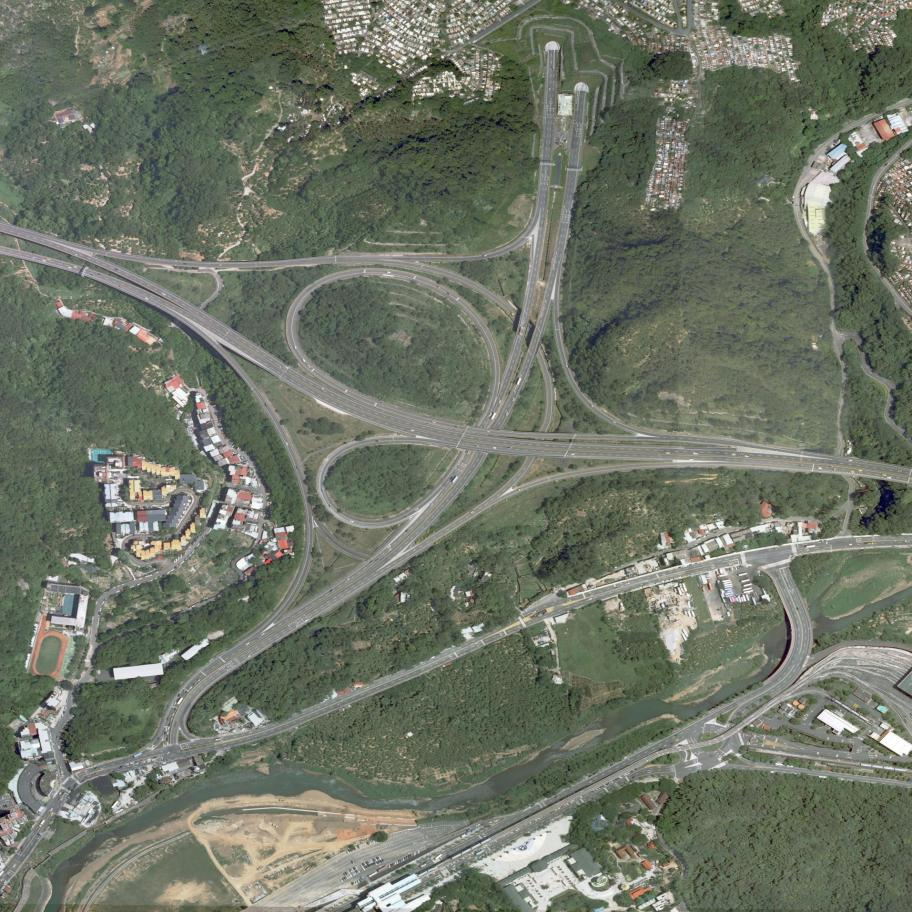large-vehicle: (452, 476, 460, 484), (434, 853, 443, 860), (518, 326, 524, 336), (39, 820, 46, 828), (177, 697, 184, 705), (378, 866, 387, 872), (368, 871, 377, 877), (742, 582, 752, 587), (740, 578, 750, 583), (476, 850, 484, 856), (752, 597, 758, 605), (491, 412, 497, 420), (133, 753, 142, 758), (738, 572, 747, 577), (724, 582, 733, 587), (742, 587, 753, 591), (744, 590, 754, 594), (805, 544, 815, 548), (742, 594, 747, 602), (722, 579, 731, 583), (726, 594, 735, 598), (725, 592, 734, 596), (723, 581, 732, 585), (745, 594, 750, 601), (517, 378, 522, 385), (740, 596, 745, 602), (738, 595, 742, 602), (420, 864, 426, 868), (725, 585, 733, 588)
small-vehicle: (84, 774, 90, 779), (510, 311, 515, 317), (350, 867, 355, 872), (49, 813, 54, 818), (196, 542, 201, 547), (375, 557, 380, 562), (386, 544, 391, 549), (414, 507, 419, 512), (225, 438, 230, 443), (238, 447, 243, 452), (265, 503, 270, 508), (93, 766, 99, 770), (114, 268, 120, 272), (132, 276, 138, 280), (41, 259, 47, 263), (101, 600, 105, 606), (219, 427, 225, 431), (173, 701, 177, 706), (177, 693, 181, 698), (197, 678, 201, 683), (95, 771, 100, 775), (351, 871, 355, 876), (346, 870, 351, 874), (354, 866, 358, 871), (353, 846, 357, 851), (410, 429, 415, 433), (264, 403, 268, 408), (277, 365, 282, 369), (284, 366, 289, 370), (224, 331, 229, 335), (73, 253, 78, 257), (144, 297, 149, 301), (119, 285, 124, 289), (72, 265, 77, 269), (285, 441, 289, 446), (138, 577, 143, 581), (148, 574, 153, 578), (155, 570, 160, 574), (345, 578, 350, 582), (369, 560, 374, 564), (388, 548, 392, 553), (328, 504, 332, 509), (320, 487, 324, 492), (360, 864, 365, 868), (364, 862, 368, 867), (378, 856, 382, 861), (340, 878, 344, 883), (470, 510, 475, 514), (66, 266, 72, 269), (349, 520, 355, 523), (570, 453, 576, 456), (125, 763, 129, 767), (171, 712, 175, 716), (184, 690, 188, 694), (355, 880, 359, 884), (346, 850, 350, 854), (370, 840, 374, 844), (356, 869, 360, 873), (307, 365, 311, 369), (302, 358, 306, 362), (90, 273, 94, 277), (247, 654, 251, 658), (261, 632, 265, 636), (430, 502, 434, 506), (232, 444, 236, 448), (353, 871, 357, 875), (349, 873, 353, 877), (351, 860, 355, 864), (3, 880, 7, 884), (166, 751, 170, 755), (57, 797, 61, 801), (788, 555, 792, 559), (365, 686, 369, 690), (347, 874, 351, 878), (853, 703, 857, 707), (676, 738, 680, 742), (380, 859, 384, 863), (367, 860, 371, 864), (363, 867, 367, 871), (342, 877, 346, 881), (489, 413, 493, 417), (512, 397, 516, 401), (466, 450, 470, 454), (215, 738, 220, 741), (50, 807, 53, 812), (68, 790, 71, 795), (99, 608, 102, 613), (436, 286, 441, 289), (161, 293, 166, 296), (183, 262, 188, 265), (98, 273, 103, 276), (46, 258, 51, 261), (30, 256, 35, 259), (245, 642, 250, 645), (184, 551, 187, 556), (467, 857, 472, 860), (115, 590, 120, 593), (848, 459, 853, 462), (532, 611, 537, 614), (803, 716, 808, 719), (801, 718, 806, 721), (494, 820, 499, 823), (517, 488, 522, 491), (887, 476, 892, 479), (141, 761, 145, 764), (147, 760, 151, 763), (152, 758, 156, 761), (163, 740, 166, 744), (166, 742, 169, 746), (167, 731, 170, 735), (170, 717, 173, 721), (173, 708, 177, 711), (189, 686, 192, 690), (130, 762, 134, 765), (97, 622, 100, 626), (398, 859, 401, 863), (388, 864, 391, 868), (402, 857, 405, 861), (406, 855, 409, 859), (408, 854, 411, 858), (417, 850, 420, 854), (357, 845, 360, 849), (350, 848, 353, 852), (13, 864, 16, 868), (320, 387, 324, 390), (294, 345, 297, 349), (216, 264, 222, 266), (432, 420, 436, 423), (295, 465, 298, 469), (222, 434, 226, 437), (535, 802, 539, 805), (452, 868, 456, 871), (452, 865, 456, 868), (474, 856, 478, 859), (58, 792, 61, 796), (61, 792, 65, 795), (68, 787, 71, 791), (63, 754, 67, 757), (120, 589, 124, 592), (209, 529, 212, 533), (527, 807, 531, 810), (735, 529, 739, 532), (735, 566, 738, 570), (673, 567, 677, 570), (626, 582, 630, 585), (191, 551, 194, 555), (809, 710, 813, 713), (805, 713, 809, 716), (855, 705, 859, 708), (374, 858, 377, 862), (366, 865, 369, 869), (486, 430, 490, 433), (499, 400, 502, 404), (506, 412, 509, 416), (744, 455, 749, 457), (391, 862, 393, 867), (386, 272, 391, 274), (217, 424, 222, 426), (867, 543, 872, 545), (482, 255, 487, 257), (488, 822, 493, 824), (689, 459, 694, 461), (492, 447, 497, 449), (850, 471, 855, 473), (881, 474, 886, 476), (858, 469, 863, 471), (167, 728, 170, 731), (193, 683, 196, 686), (351, 882, 354, 885), (360, 879, 363, 882), (369, 841, 372, 844), (544, 798, 547, 801), (345, 872, 348, 875), (796, 607, 799, 610), (731, 567, 734, 570), (167, 572, 170, 575), (370, 860, 373, 863), (344, 877, 347, 880), (147, 758, 151, 760), (165, 727, 167, 731), (164, 736, 166, 740), (396, 860, 398, 864), (414, 852, 416, 856), (373, 839, 375, 843), (376, 440, 380, 442), (266, 493, 270, 495), (63, 753, 67, 755), (120, 584, 124, 586), (130, 586, 134, 588), (137, 584, 141, 586), (540, 801, 544, 803), (829, 466, 833, 468), (848, 544, 852, 546), (745, 566, 749, 568), (689, 564, 693, 566), (683, 565, 687, 567), (669, 569, 673, 571), (732, 454, 736, 456), (566, 364, 568, 368), (456, 426, 460, 428), (589, 595, 593, 597), (567, 600, 571, 602), (476, 824, 480, 826), (666, 452, 670, 454), (164, 732, 166, 735), (394, 862, 396, 865), (91, 617, 93, 620), (178, 557, 180, 560), (344, 873, 346, 876), (59, 718, 61, 721), (95, 602, 97, 605), (188, 555, 191, 557), (524, 809, 527, 811), (739, 566, 741, 569), (738, 566, 740, 569), (730, 568, 732, 571), (823, 543, 828, 544), (508, 447, 513, 448), (693, 453, 698, 454), (181, 555, 182, 559), (818, 468, 822, 469), (64, 759, 68, 760), (60, 740, 64, 741), (98, 619, 100, 621), (833, 469, 837, 470), (898, 470, 902, 471), (475, 445, 479, 446), (67, 699, 68, 702), (176, 559, 177, 562)
